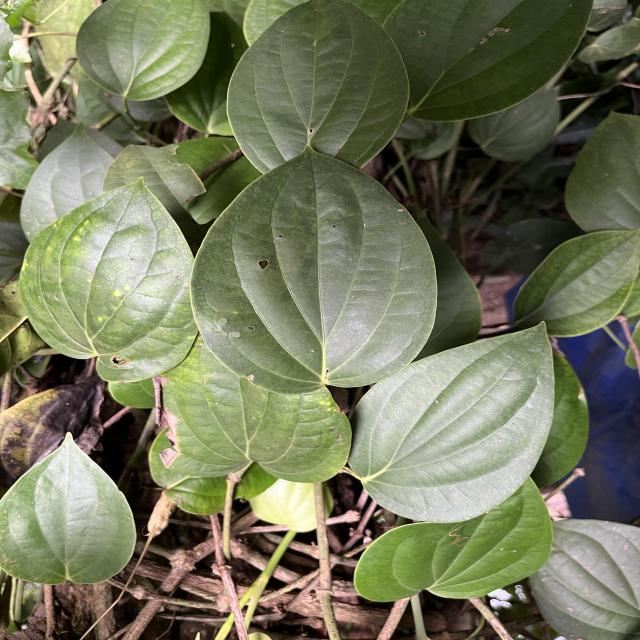Piper nigrum: (188, 141, 440, 397), (347, 319, 557, 525), (17, 173, 202, 384), (223, 0, 413, 172), (0, 429, 139, 586)
